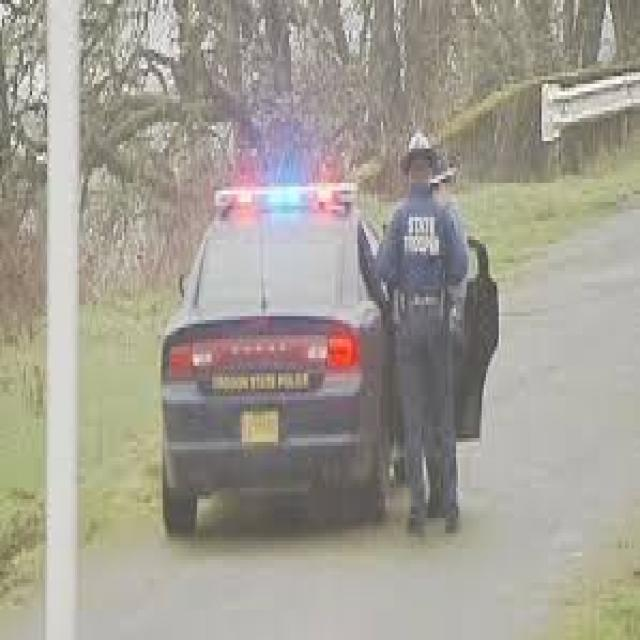cop: (154, 174, 396, 541)
